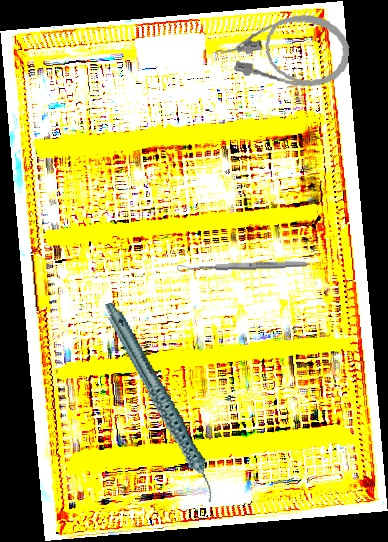Cannula: (213, 4, 353, 92)
Handpiece: (103, 289, 217, 516)
Surgical Spoon: (176, 259, 308, 273)
